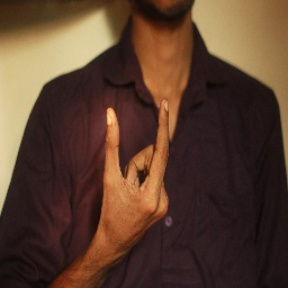U: (92, 94, 177, 239)
